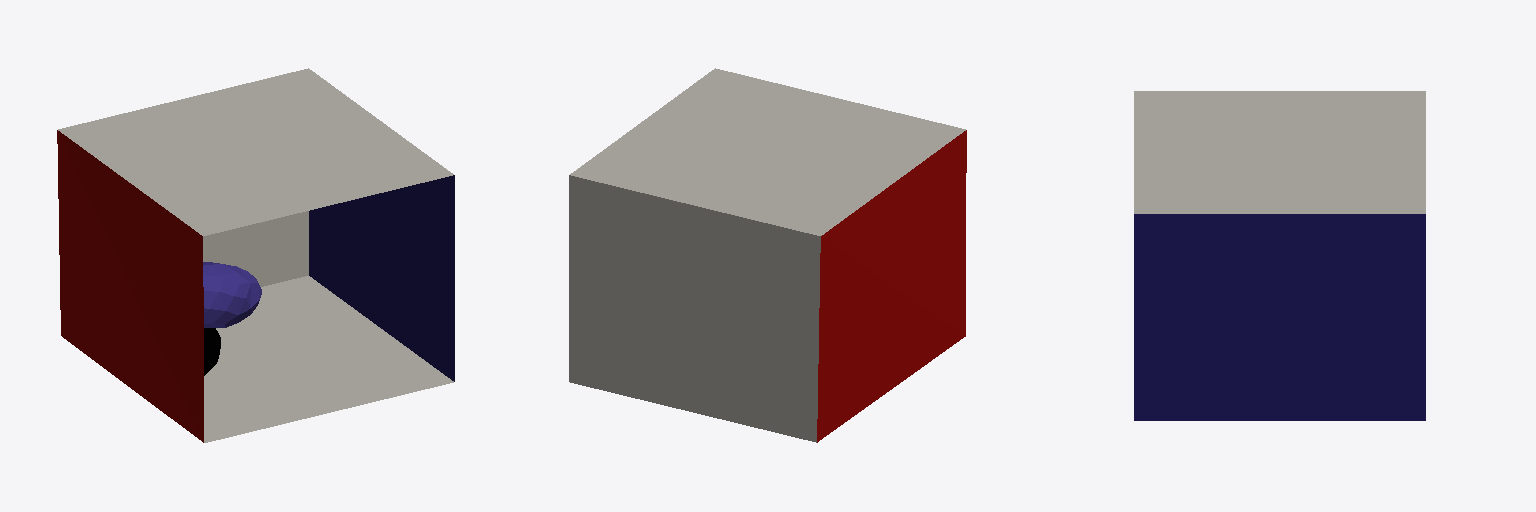
File: CornellBox-Ellipsoid-135.obj
3 renders of one model, left to right at view 1: azimuth 30°, elevation 25°; view 2: azimuth 150°, elevation 25°; view 3: azimuth 270°, elevation 25°, orthographic.
Parts seen in each view (by area): view 1: ceiling, leftWall, floor, rightWall, backWall, leftSphere, rightSphere; view 2: backWall, ceiling, leftWall; view 3: rightWall, ceiling.
Boxes of the visible parts, x1=… form: ceiling: x1=58, y1=68, x2=453, y2=235; leftWall: x1=57, y1=130, x2=203, y2=442; floor: x1=204, y1=276, x2=453, y2=442; rightWall: x1=309, y1=175, x2=454, y2=381; backWall: x1=203, y1=211, x2=308, y2=286; leftSphere: x1=203, y1=262, x2=261, y2=327; rightSphere: x1=204, y1=328, x2=220, y2=375; backWall: x1=569, y1=175, x2=820, y2=442; ceiling: x1=570, y1=68, x2=965, y2=235; leftWall: x1=817, y1=130, x2=966, y2=442; rightWall: x1=1134, y1=214, x2=1425, y2=420; ceiling: x1=1134, y1=91, x2=1425, y2=213.
Bounding box in the file's own units: 2.02 × 1.59 × 2.03.